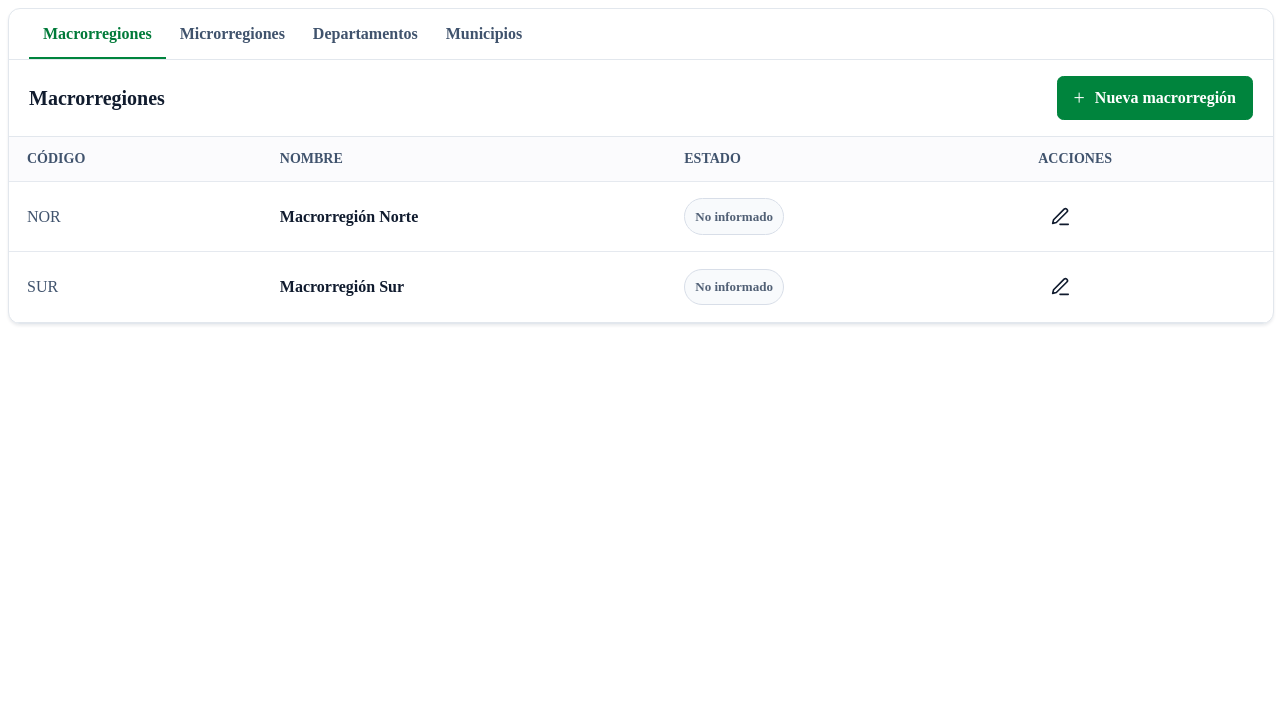
Test: GeographyHierarchy › requiere seleccionar la macrorregión al crear una microrregión
Click the button "Macrorregión Norte": (349, 216) left=280, top=202, right=418, bottom=232
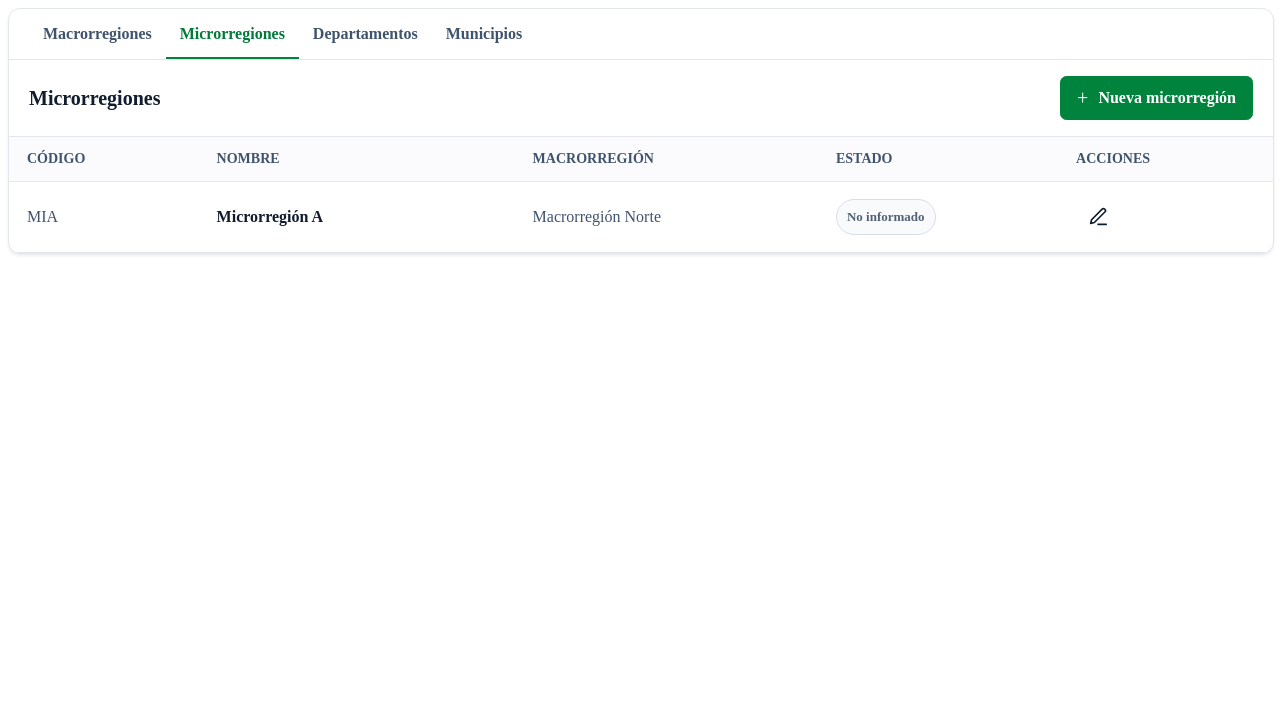
Click the button "+ Nueva microrregión": (1157, 98) left=1060, top=76, right=1253, bottom=120
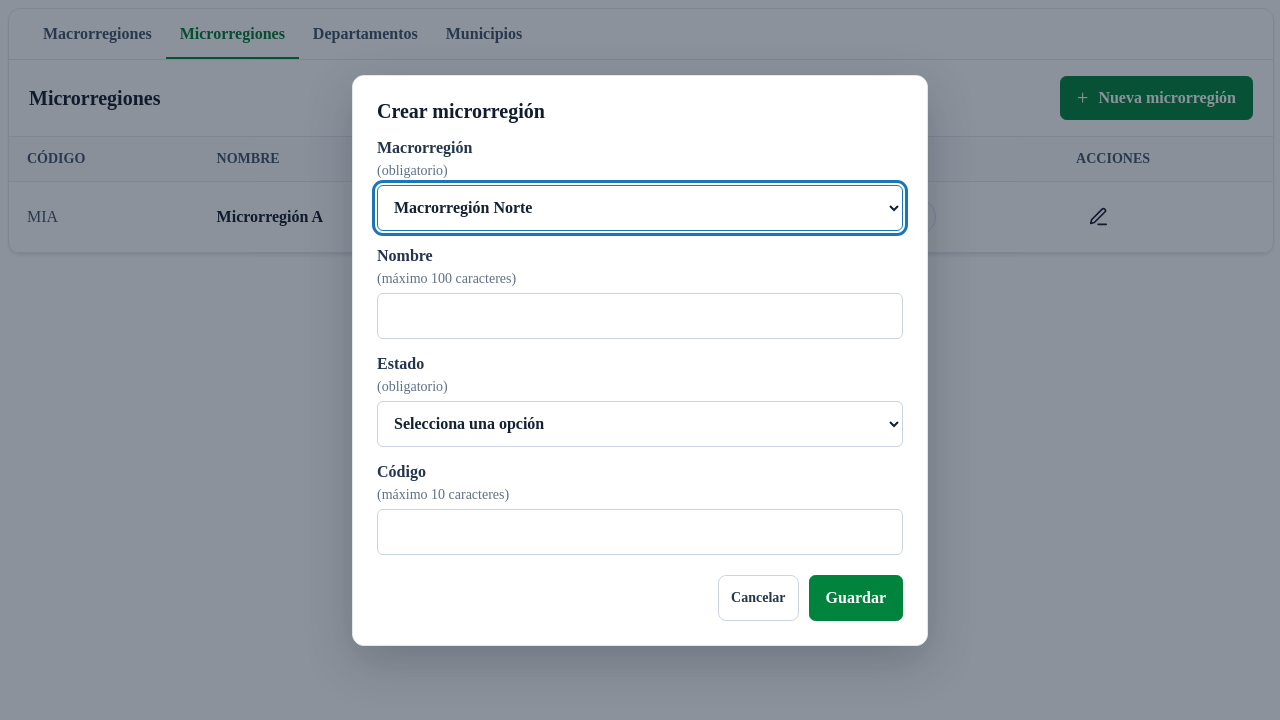
In the field labelled "Nombre (máximo 100 caracteres)": (640, 316) left=377, top=292, right=903, bottom=338, type "Centro"
In the field labelled "Código (máximo 10 caracteres)": (640, 532) left=377, top=508, right=903, bottom=554, type "CEN"
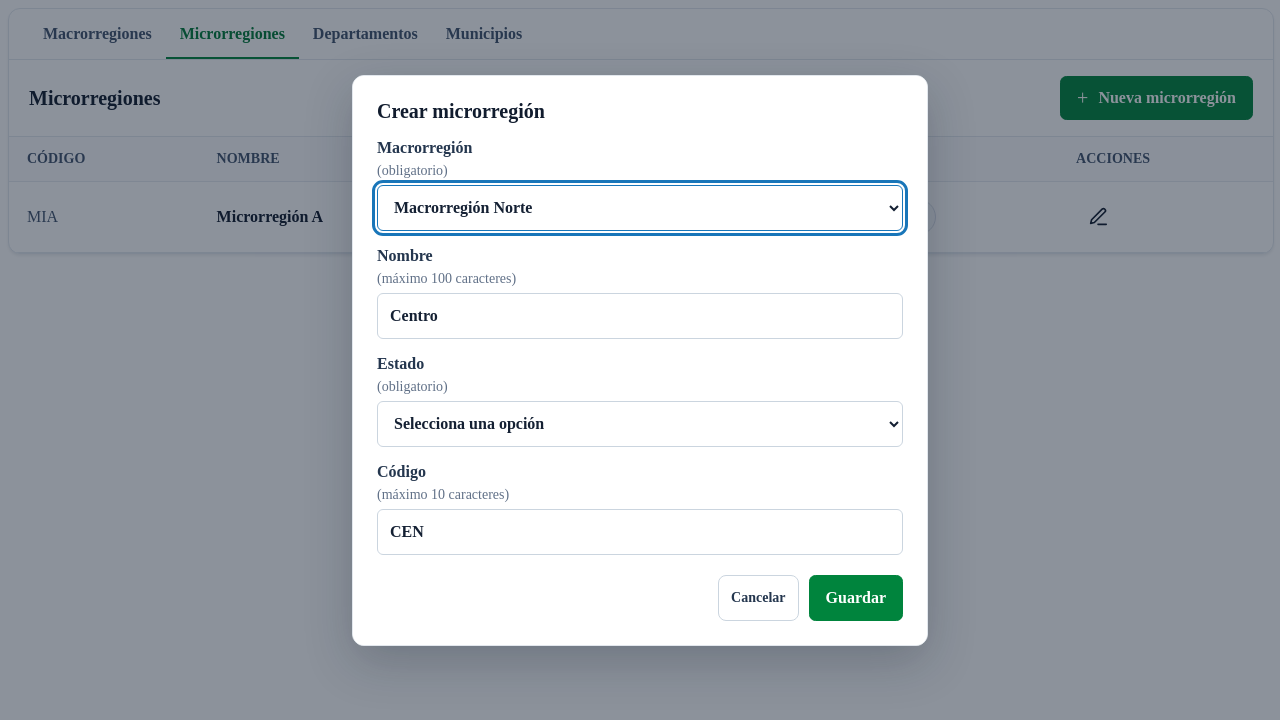
Select "Active" in the dropdown labelled "Estado (obligatorio)": (640, 424) left=377, top=400, right=903, bottom=446
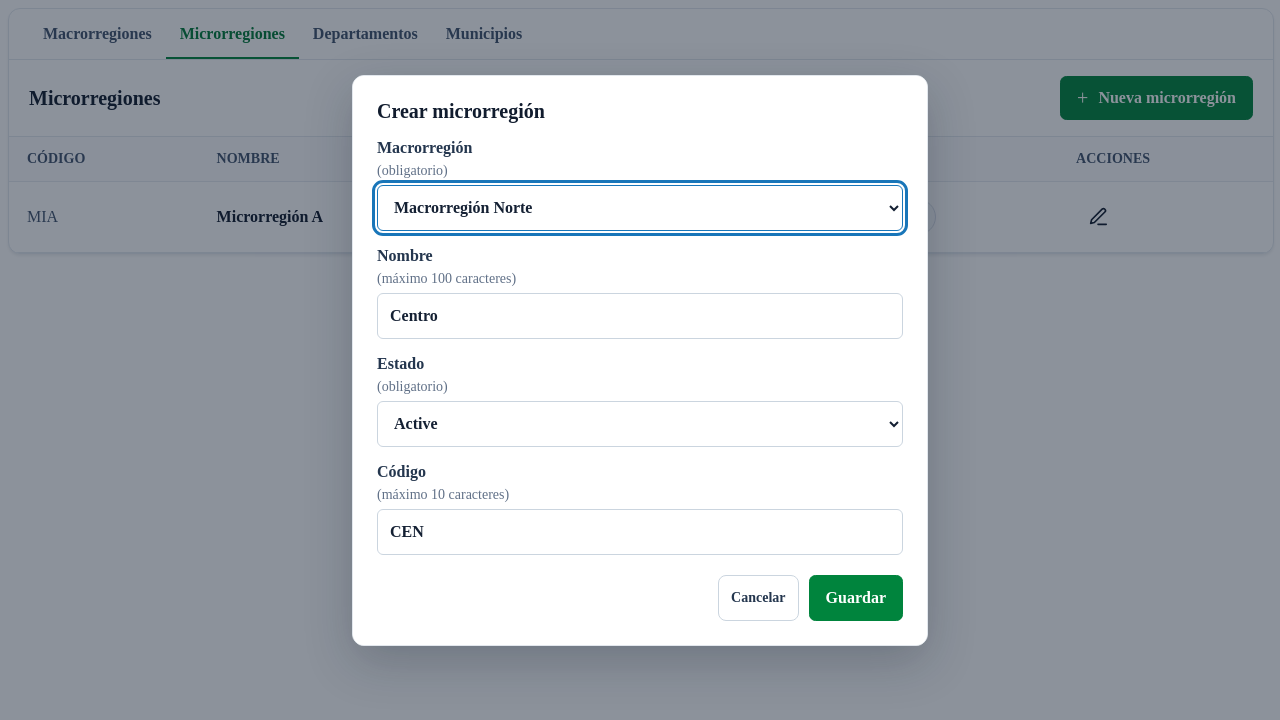
Select "Selecciona una opción" in the dropdown labelled "Macrorregión (obligatorio)": (640, 208) left=377, top=184, right=903, bottom=230
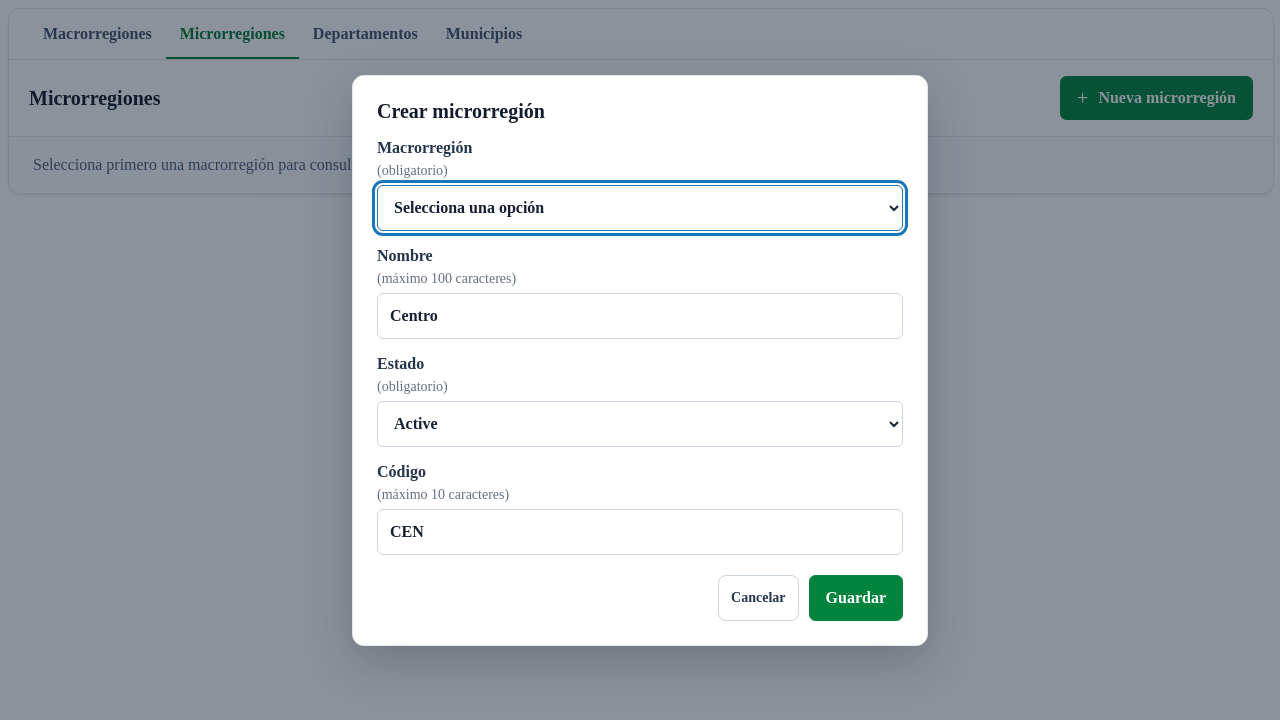
Submit the form named "Crear Microrregiones", box left=353, top=76, right=927, bottom=644
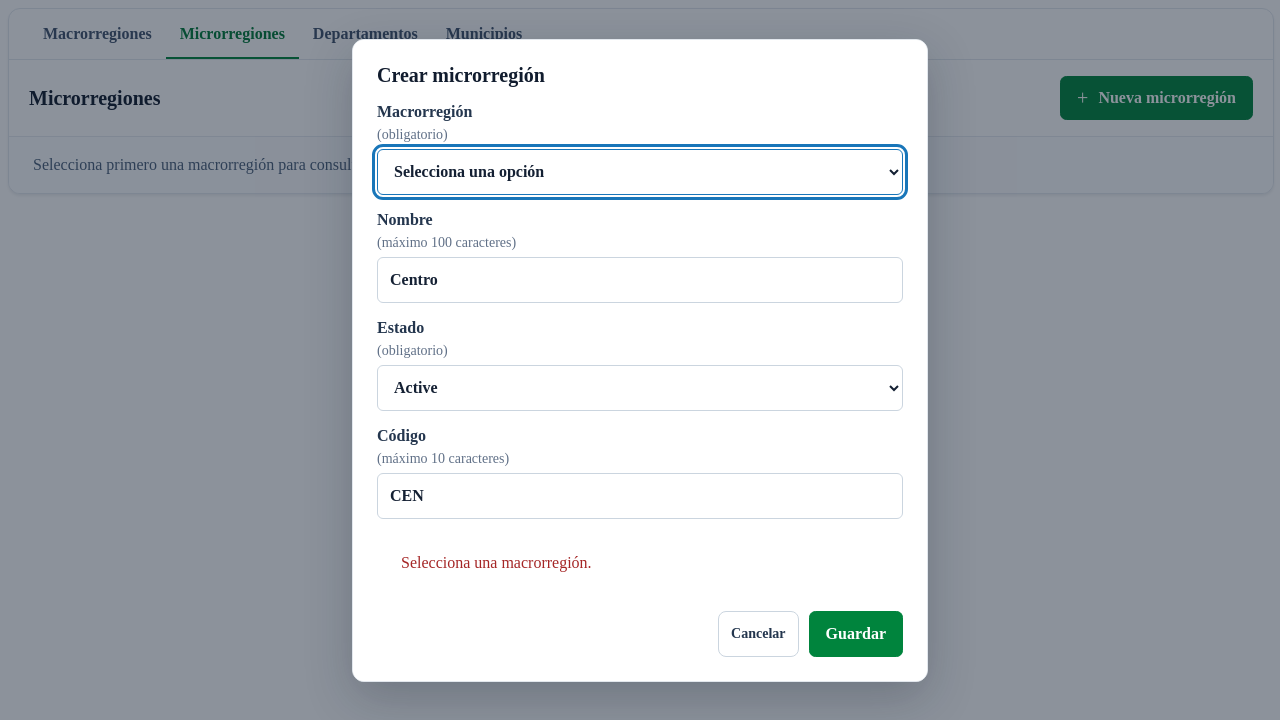
expect the message shows "Selecciona una macrorregión": met, box left=401, top=554, right=592, bottom=570
